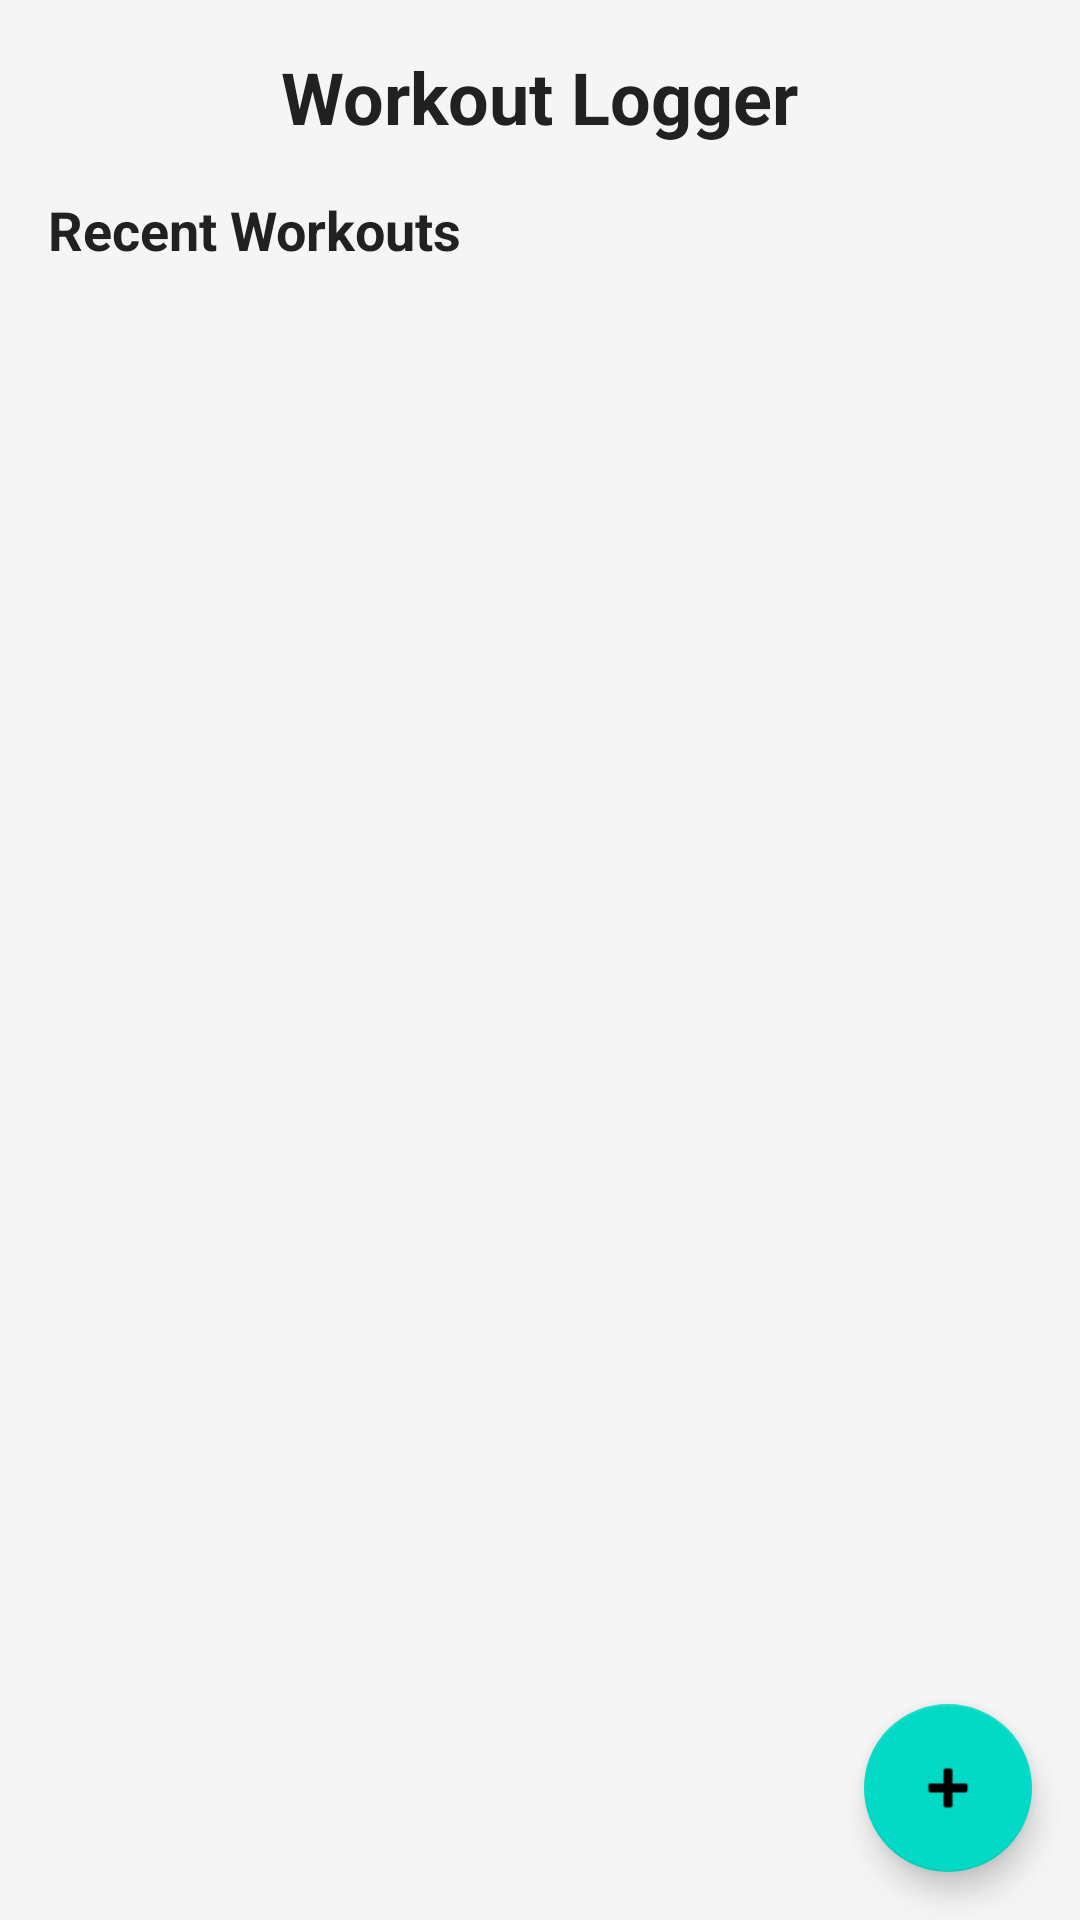

Icon bounding boxes for this 1080 x 1920 phone screenshot, format (x1, y1, x2, y2):
Add workout: (864, 1704, 1032, 1872)
